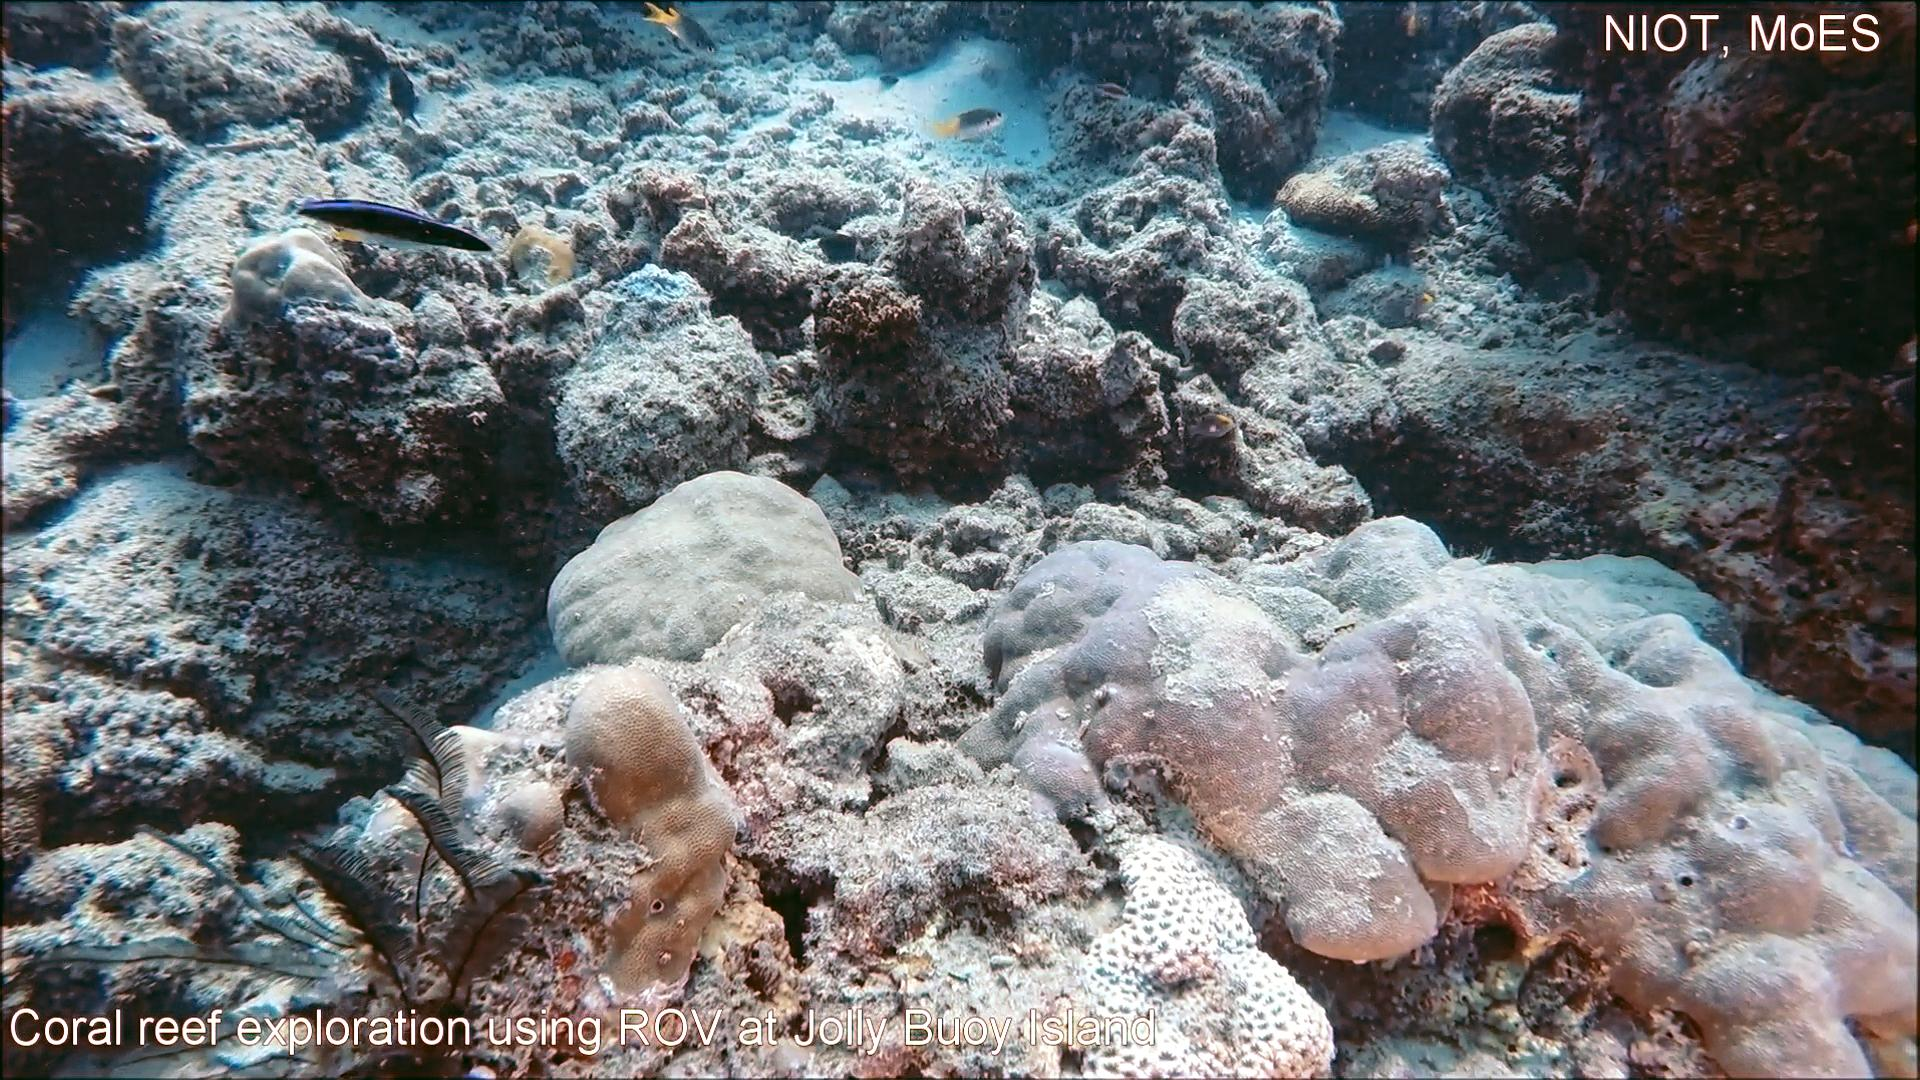Feather star-Crinoid star: (32, 680, 573, 1080)
Goniastrea-Goniastrea pectinata: (1066, 824, 1346, 1080)
Porites-Porites pukoensis: (1408, 504, 1920, 1080)
Turbinaria-Turbinaria stellulata: (0, 704, 74, 873)
